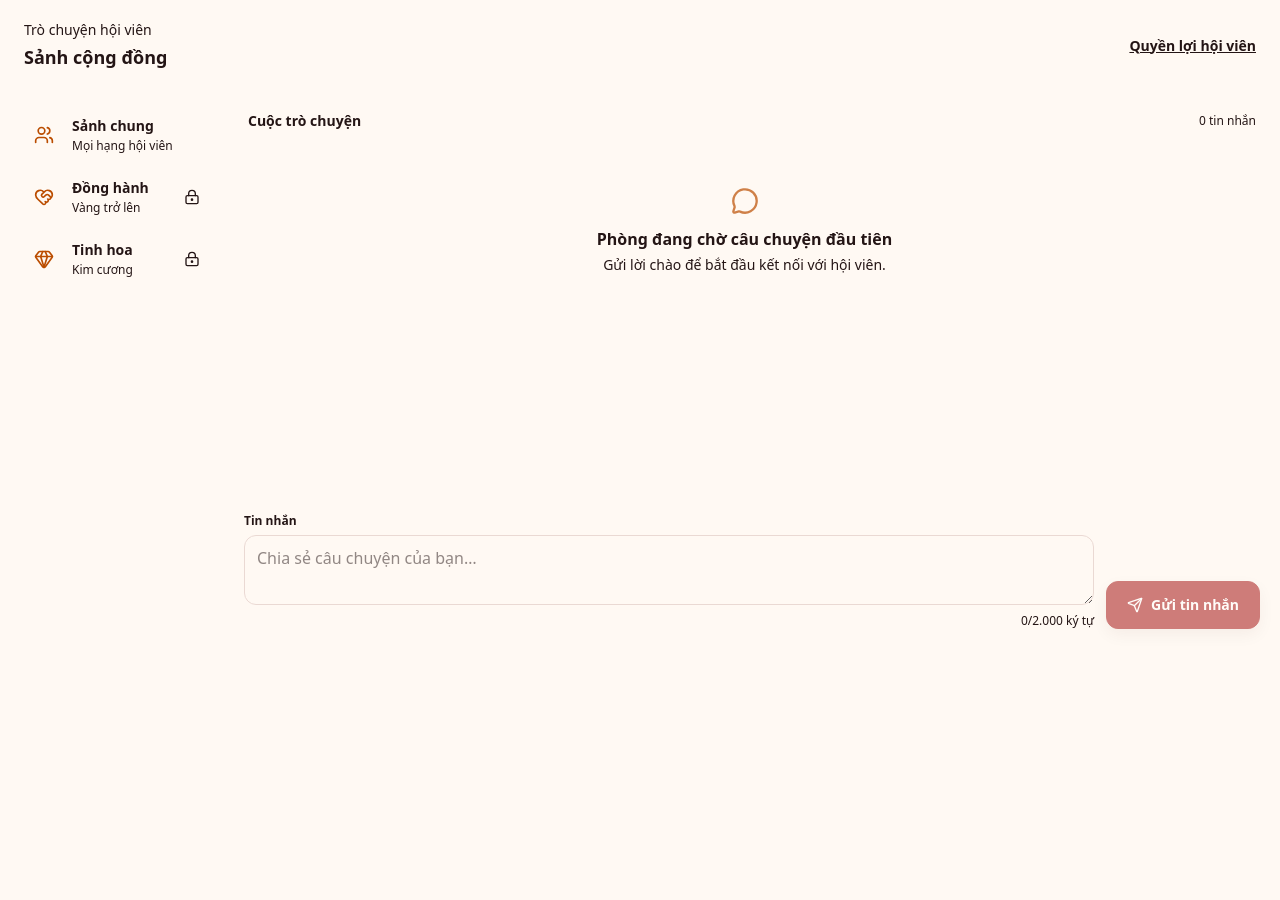
Test: community chat tier access › lets Silver use the Member room without adding a Silver room
Expected: the text "Phòng đang chờ câu chuyện đầu tiên" is shown, [597,227,892,251]
Step 1. Click the button "Đồng hành Vàng trở lên" → (112, 197), box [12,169,212,225]
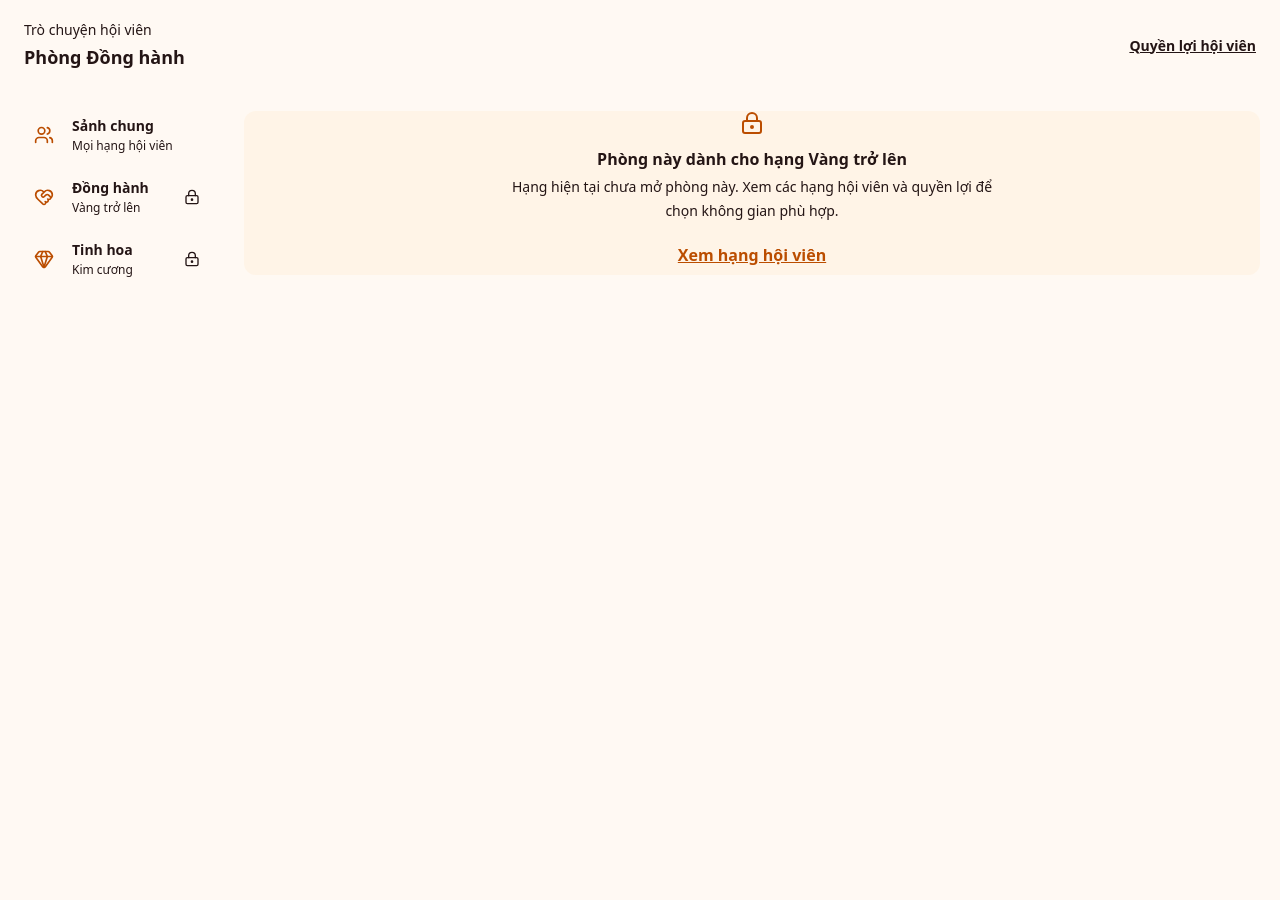
Result: the heading "Phòng này dành cho hạng Vàng trở lên" is shown at [597,147,907,171]
